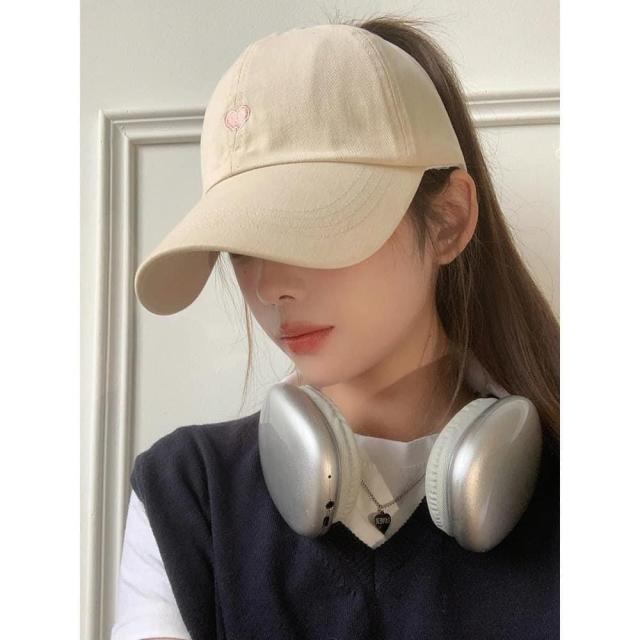Cap: (125, 17, 473, 320)
